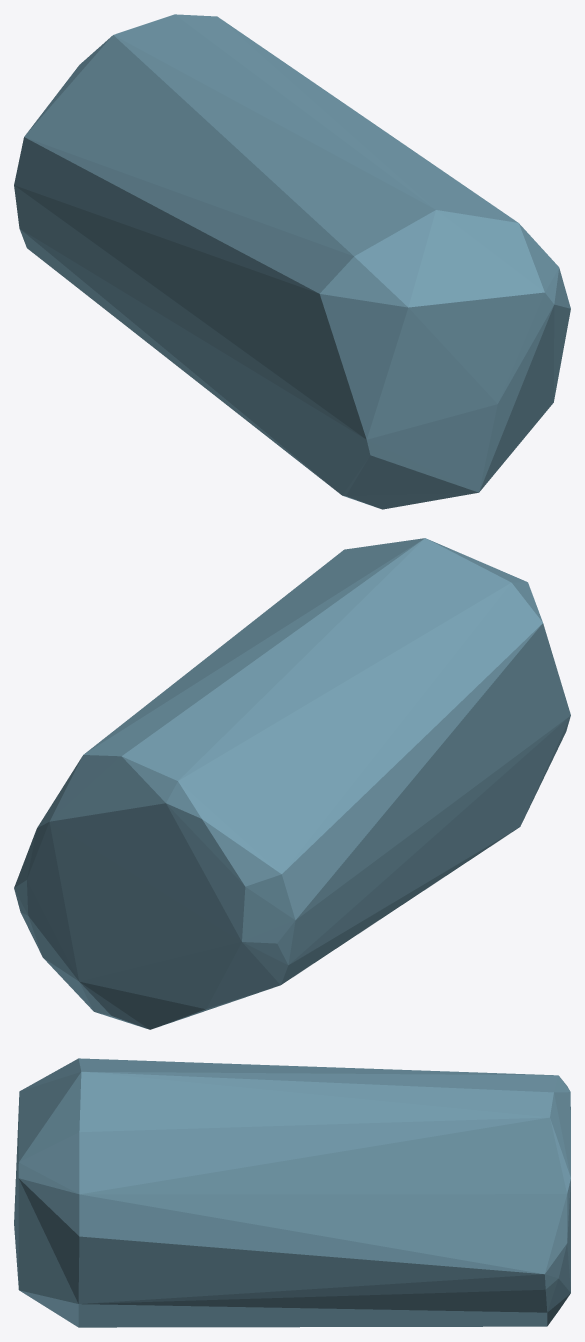
The model's file is food_beverage_can_e01.glb.
The picture shows the model from 3 angles, top to bottom: view 1: azimuth 30°, elevation 25°; view 2: azimuth 150°, elevation 25°; view 3: azimuth 270°, elevation 25°; orthographic projection. The views are drawn at different scales.
Parts seen in each view (by area): view 1: geometry_0; view 2: geometry_0; view 3: geometry_0.
Part boxes in pixels (box(x1,y1,x2,y2)): geometry_0: box(14, 14, 570, 509); geometry_0: box(14, 538, 570, 1029); geometry_0: box(14, 1058, 570, 1327).
Bounding box in the file's own units: 0.2346 × 0.2309 × 0.4798.
